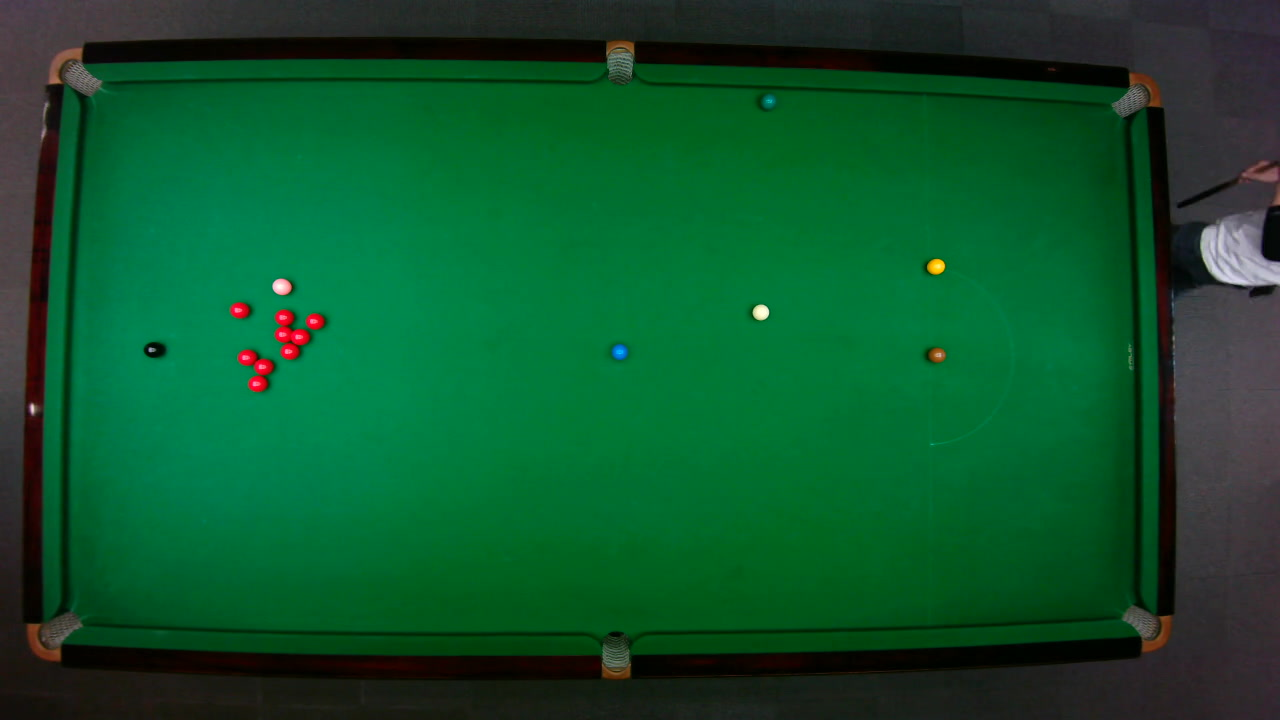bag: (24, 609, 84, 662), (46, 46, 102, 96), (1119, 603, 1171, 652), (1108, 71, 1162, 118), (600, 629, 630, 680), (605, 38, 633, 85)
black: (142, 340, 164, 358)
blue: (610, 342, 628, 360)
brown: (926, 346, 946, 362)
green: (759, 92, 776, 110)
pink: (271, 276, 292, 295)
red: (235, 347, 258, 366), (252, 356, 274, 375), (288, 327, 311, 345), (304, 311, 325, 330), (273, 307, 294, 326), (228, 300, 250, 318), (246, 375, 268, 392), (279, 342, 300, 359), (273, 325, 294, 342)
white: (750, 302, 770, 320)
yellow: (925, 257, 945, 275)
zone: (927, 265, 1013, 445)
